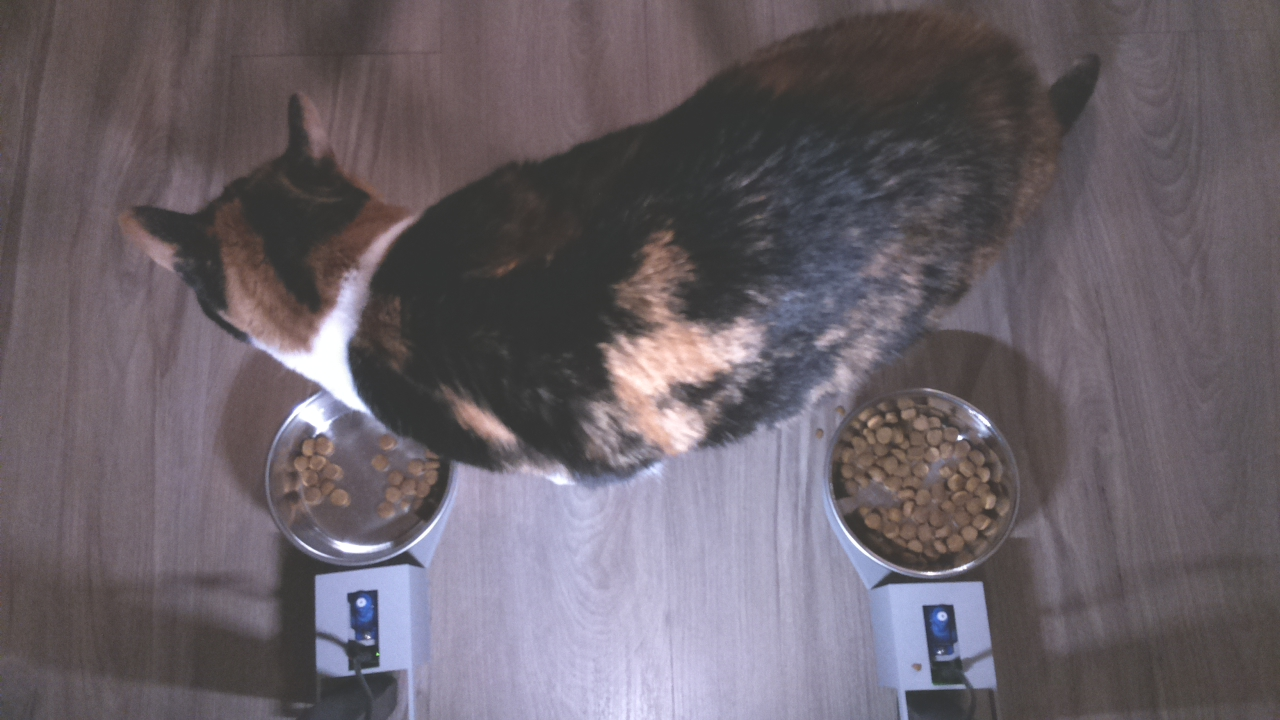bella: (120, 92, 425, 389)
open_bowl: (827, 382, 1022, 582), (262, 391, 455, 570)
